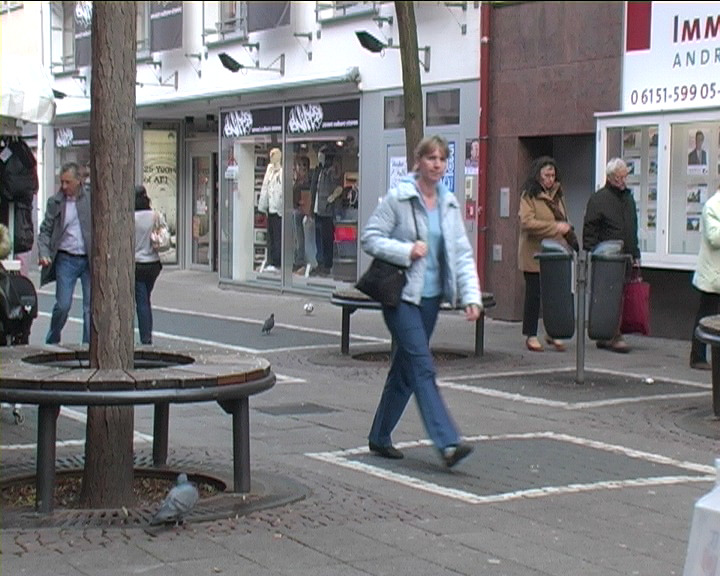undeflect: (386, 133, 474, 233)
